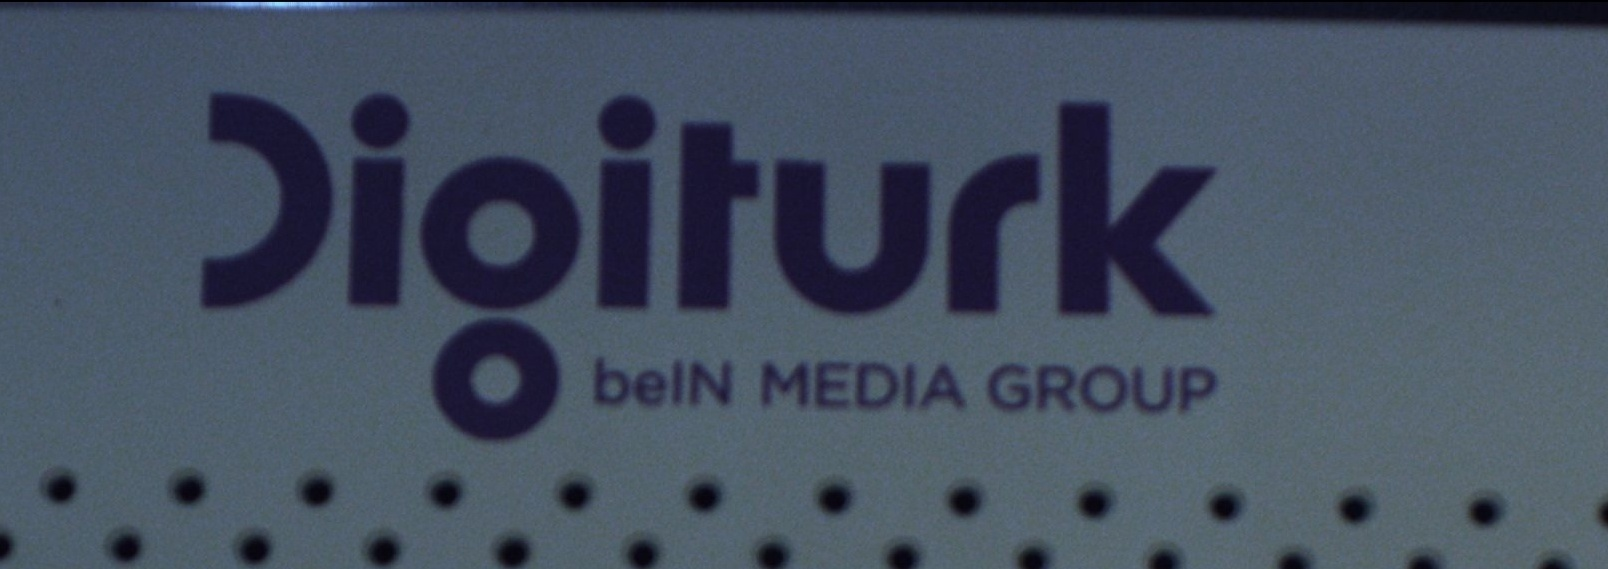BW_H168ADigiturk: (186, 53, 1248, 448)
